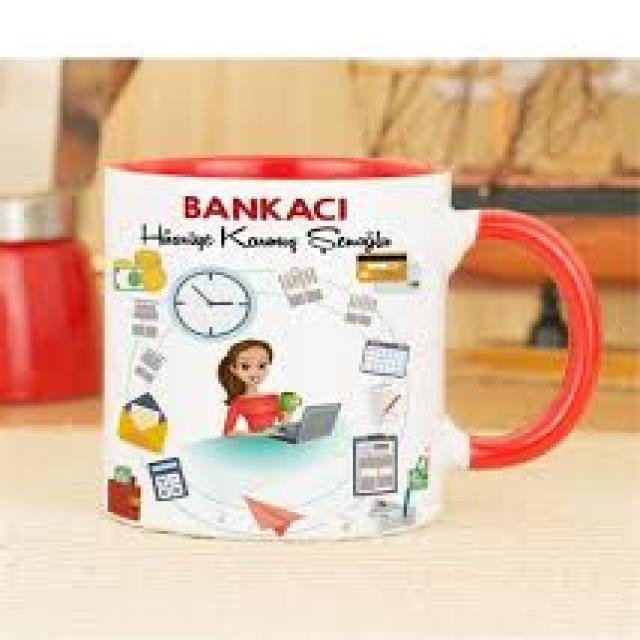taza: (100, 154, 603, 546)
